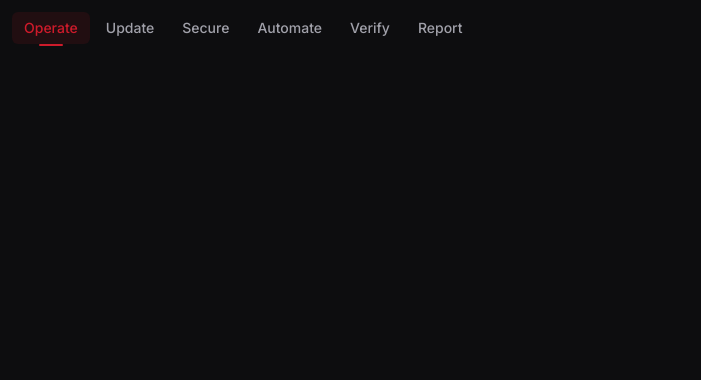
Test: WorkspaceTabs + floating drawer › opens a floating navigation drawer with Pages/Actions/Activity on tab click
Click the button "Update" at point(130, 28), box [94,12,166,44]
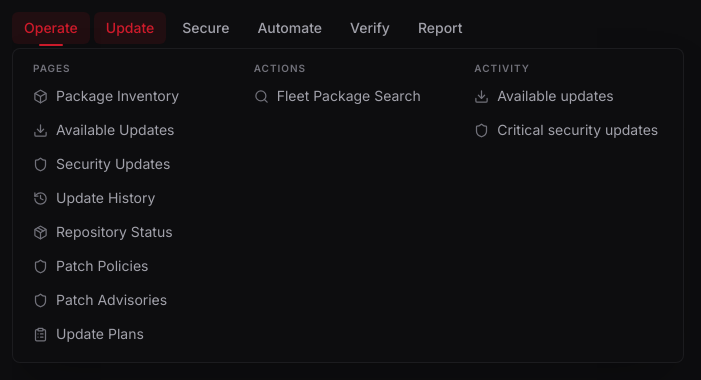
Expected: the element named "Update navigation" is shown
Expected: the text "Pages" is shown, [33,62,71,74]
Expected: the text "Actions" is shown, [254,62,306,74]
